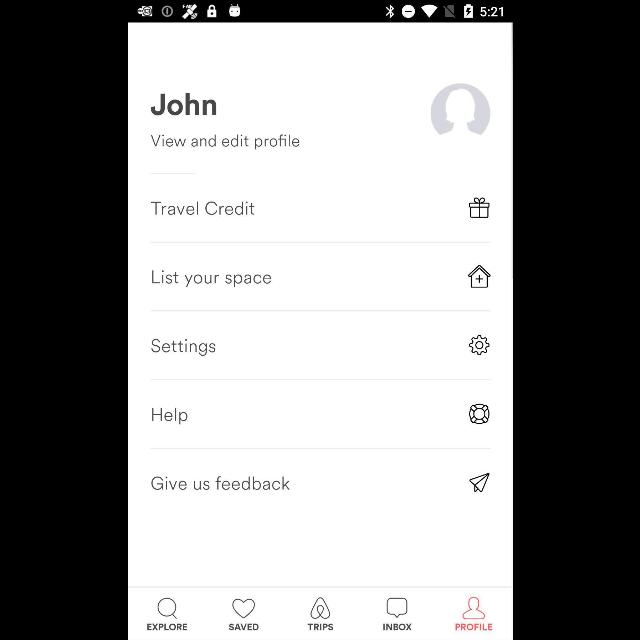icon: (430, 84, 490, 136), (462, 596, 484, 620), (468, 264, 490, 288), (468, 334, 489, 356), (232, 598, 254, 618), (157, 597, 177, 619), (468, 472, 489, 492), (386, 598, 406, 618), (468, 198, 488, 218)
image: (309, 597, 329, 619), (468, 404, 489, 424)
text: (150, 134, 298, 150), (152, 270, 270, 288), (150, 476, 290, 490), (150, 94, 217, 116), (150, 201, 254, 215), (151, 338, 215, 356), (151, 408, 187, 424), (454, 623, 492, 631), (146, 624, 187, 630), (228, 623, 258, 631), (383, 624, 411, 630), (307, 624, 333, 630)
uppertaskbar: (128, 1, 512, 23)
